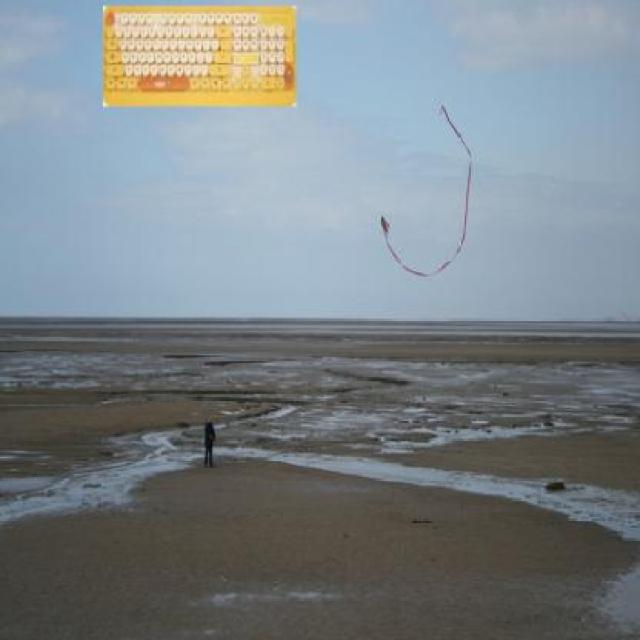keyboard: (101, 0, 292, 104)
